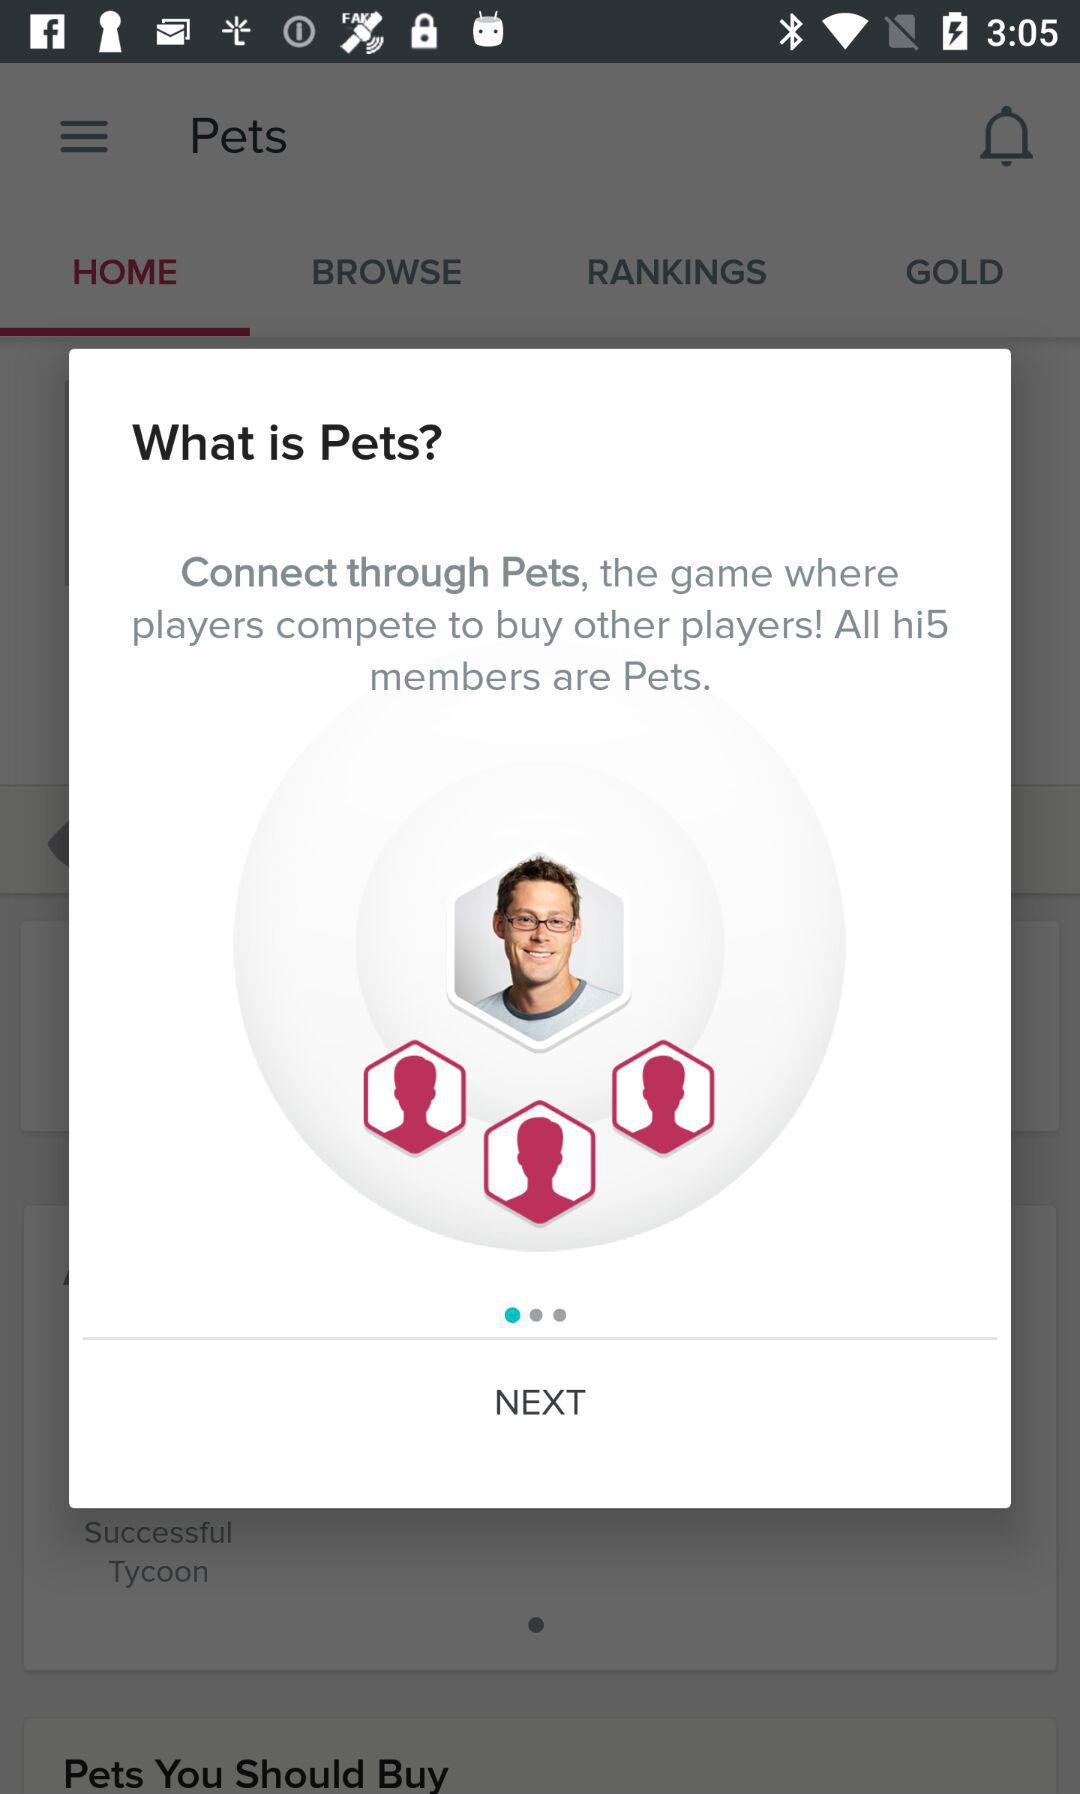Icon: (979, 106, 1033, 168), (60, 120, 108, 154)
Image: (234, 692, 848, 1252)
Modal: (69, 349, 1012, 1510)
PageIndicator: (503, 1304, 568, 1325)
Text: (133, 555, 949, 692), (65, 1758, 450, 1794), (132, 422, 443, 463), (588, 259, 767, 286), (313, 259, 462, 286), (85, 1518, 233, 1545), (193, 118, 288, 155), (108, 1559, 209, 1588), (74, 259, 178, 286), (495, 1388, 587, 1417), (904, 259, 1003, 286)
UpperTaskBar: (1, 1, 1080, 64)
